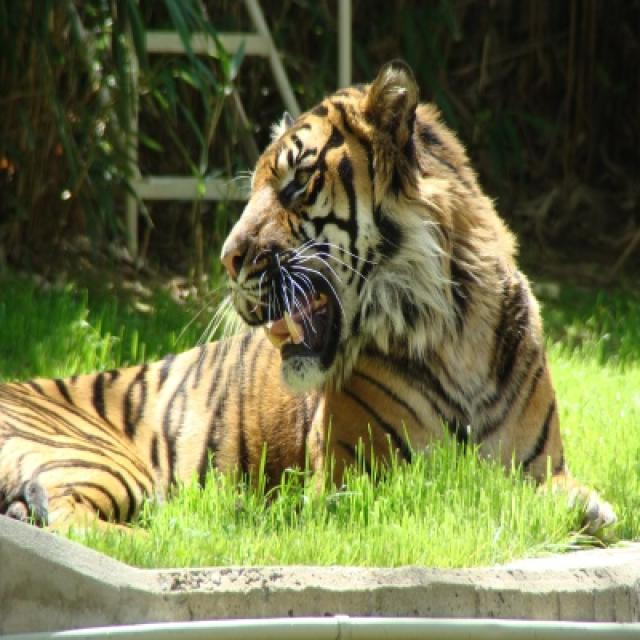Tiger: (0, 61, 614, 533)
